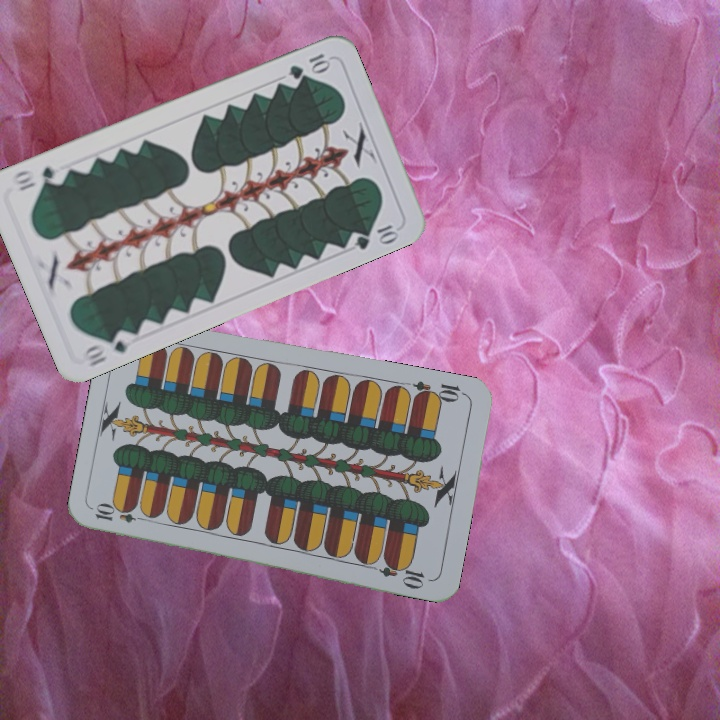E10: (410, 377, 469, 406), (91, 502, 150, 526)
G10: (80, 326, 137, 370), (285, 49, 333, 82)
